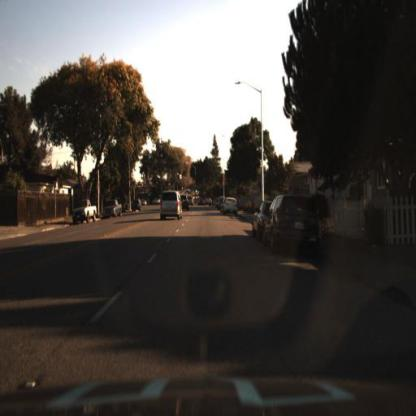car: (262, 194, 323, 258), (251, 198, 276, 240), (72, 197, 98, 228), (71, 197, 98, 226), (159, 189, 183, 221), (101, 197, 126, 220), (103, 199, 125, 220), (223, 198, 239, 218), (130, 197, 144, 215), (131, 196, 143, 216)
